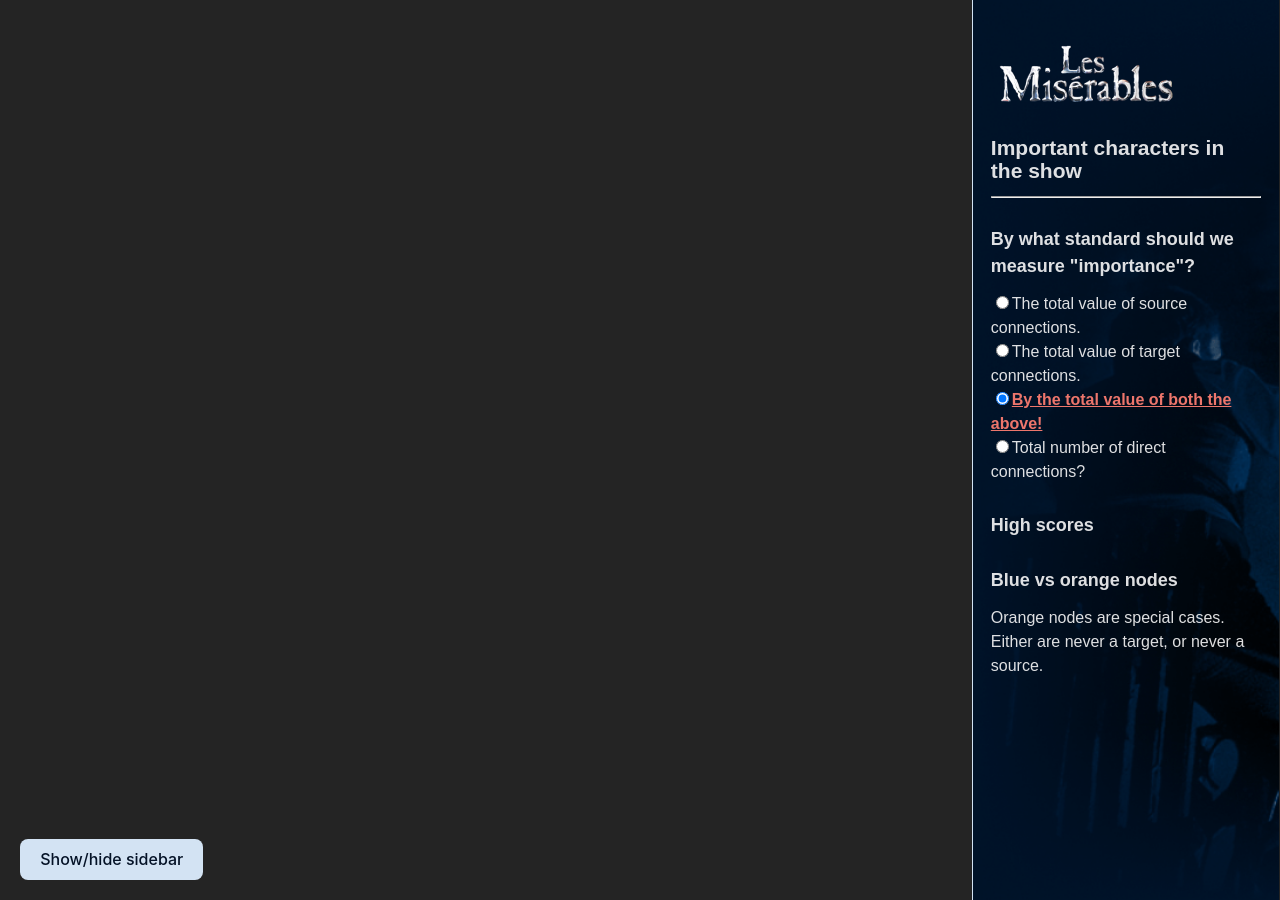
it: Fetch › renders correct high scores when importance standard is changed
Click the text "The total value of source connections.": {"x": 1099, "y": 304} [991,295,1187,336]
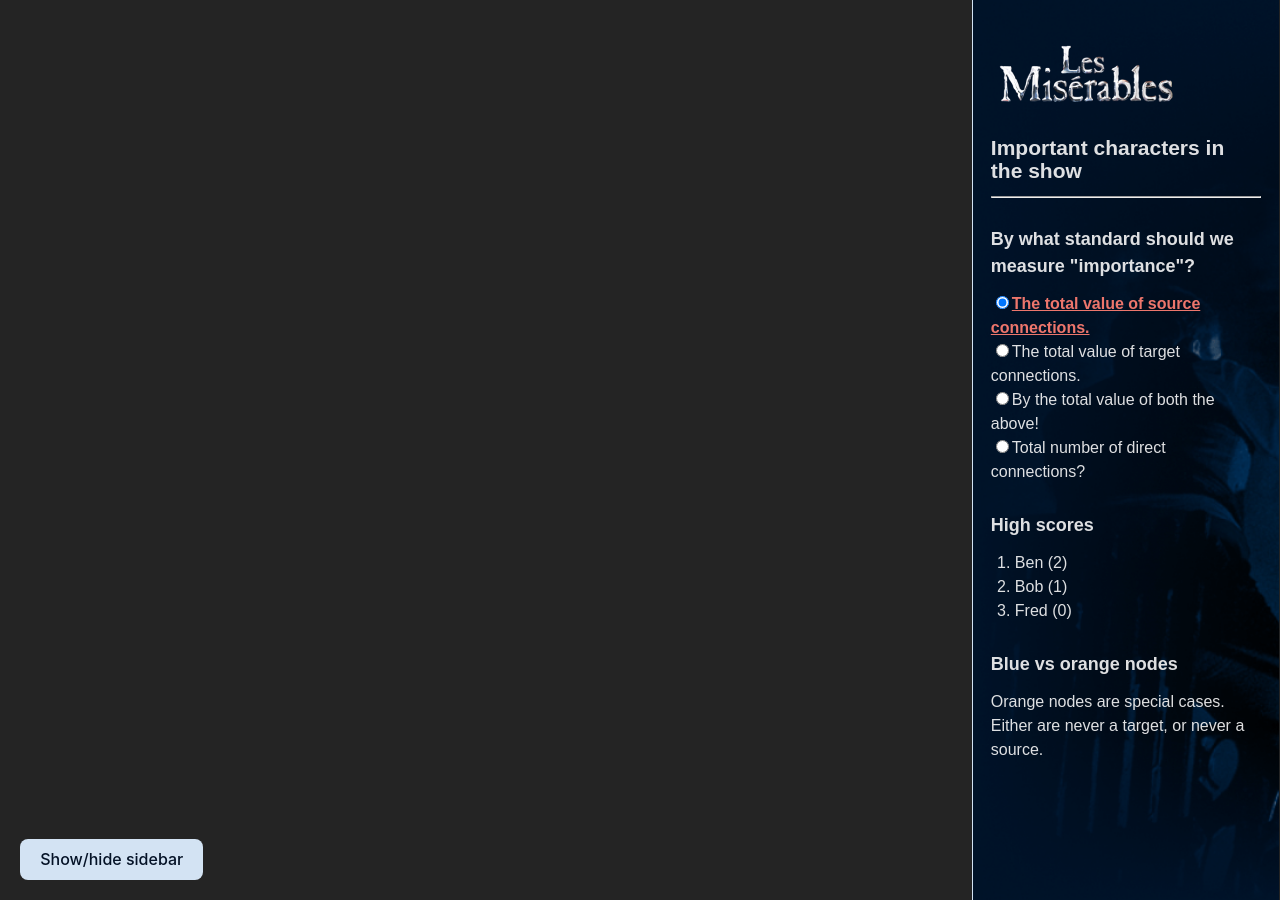
Expected: the list item "Ben (2)" is shown, [1015,554,1067,571]
Expected: the list item "Bob (1)" is shown, [1015,578,1067,595]
Expected: the list item "Fred (0)" is shown, [1015,602,1072,619]
